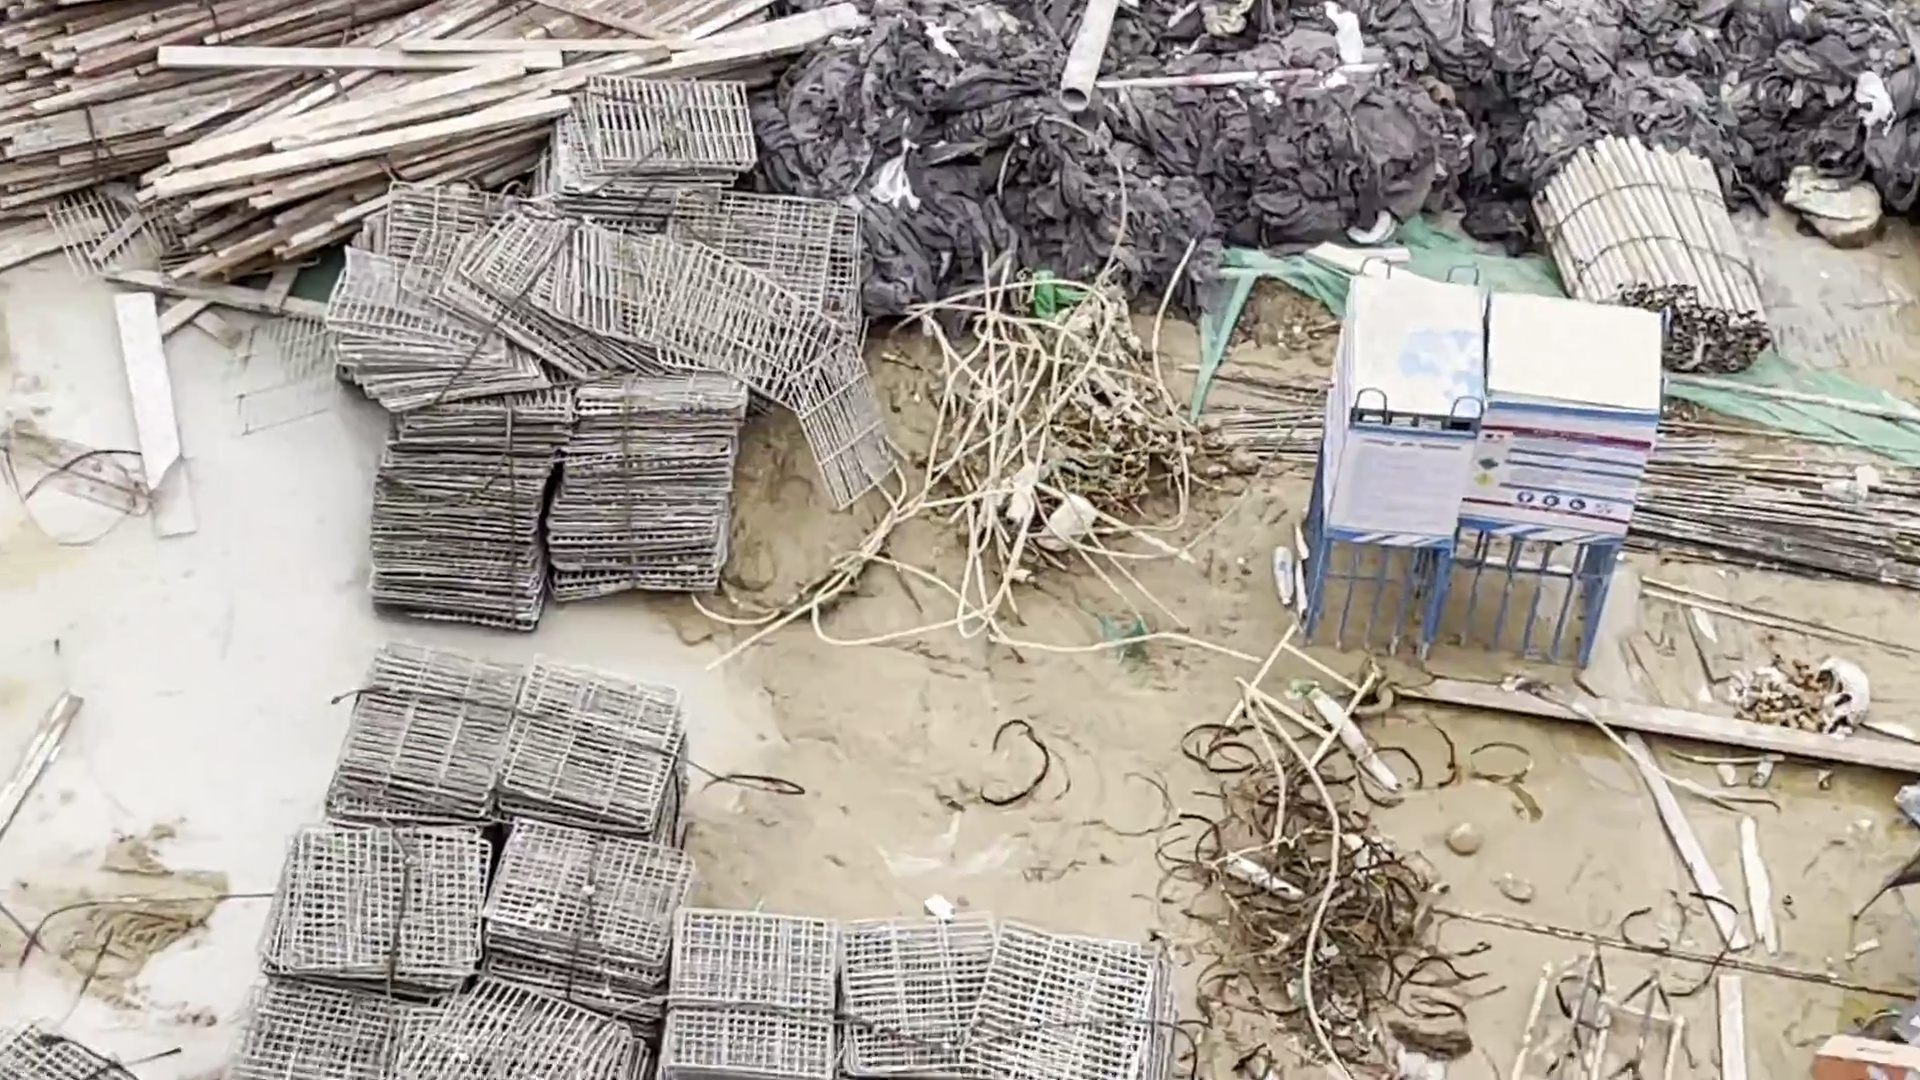slogan: (1453, 407, 1672, 570), (1317, 415, 1472, 578)
wood: (3, 1, 585, 261)
